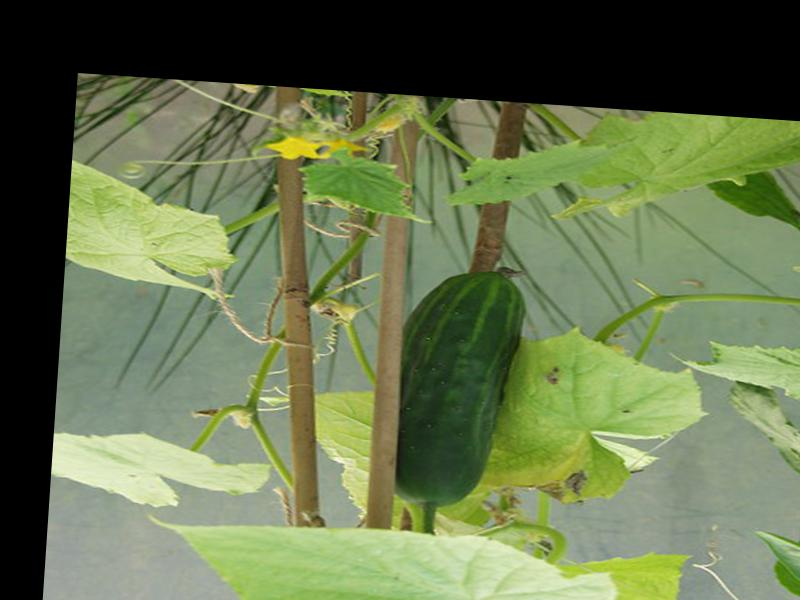Cucumber: (390, 261, 530, 511)
